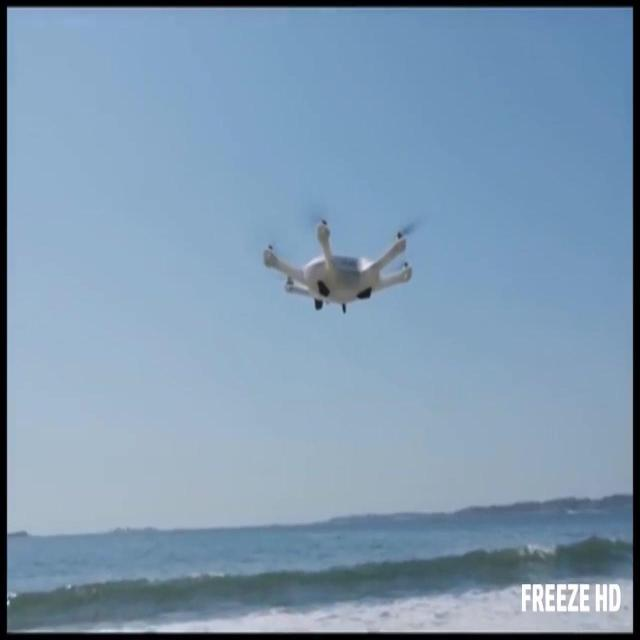drone: (263, 216, 416, 319)
